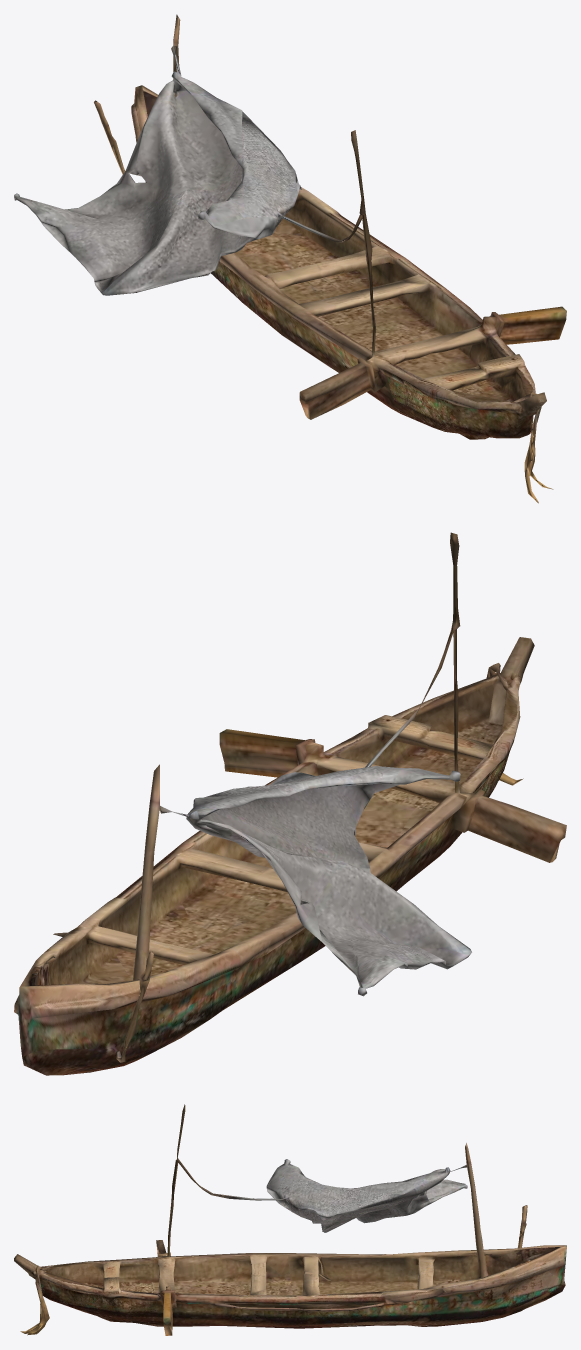
File: pirogue-peche.glb
The picture shows the model from 3 angles, top to bottom: view 1: azimuth 30°, elevation 25°; view 2: azimuth 150°, elevation 25°; view 3: azimuth 270°, elevation 25°; orthographic projection. The views are drawn at different scales.
Visible parts, largest first — view 1: tripo_node_092d4e64-80e6-4dba-b37b-3b04bc089a94; view 2: tripo_node_092d4e64-80e6-4dba-b37b-3b04bc089a94; view 3: tripo_node_092d4e64-80e6-4dba-b37b-3b04bc089a94.
Part boxes in pixels (x1,y1,x2,y2): tripo_node_092d4e64-80e6-4dba-b37b-3b04bc089a94: (14, 14, 566, 503); tripo_node_092d4e64-80e6-4dba-b37b-3b04bc089a94: (14, 532, 566, 1075); tripo_node_092d4e64-80e6-4dba-b37b-3b04bc089a94: (14, 1104, 566, 1335).
Bounding box in the file's own units: 0.4814 × 0.4121 × 0.9994.
1 material, 1 textured.
